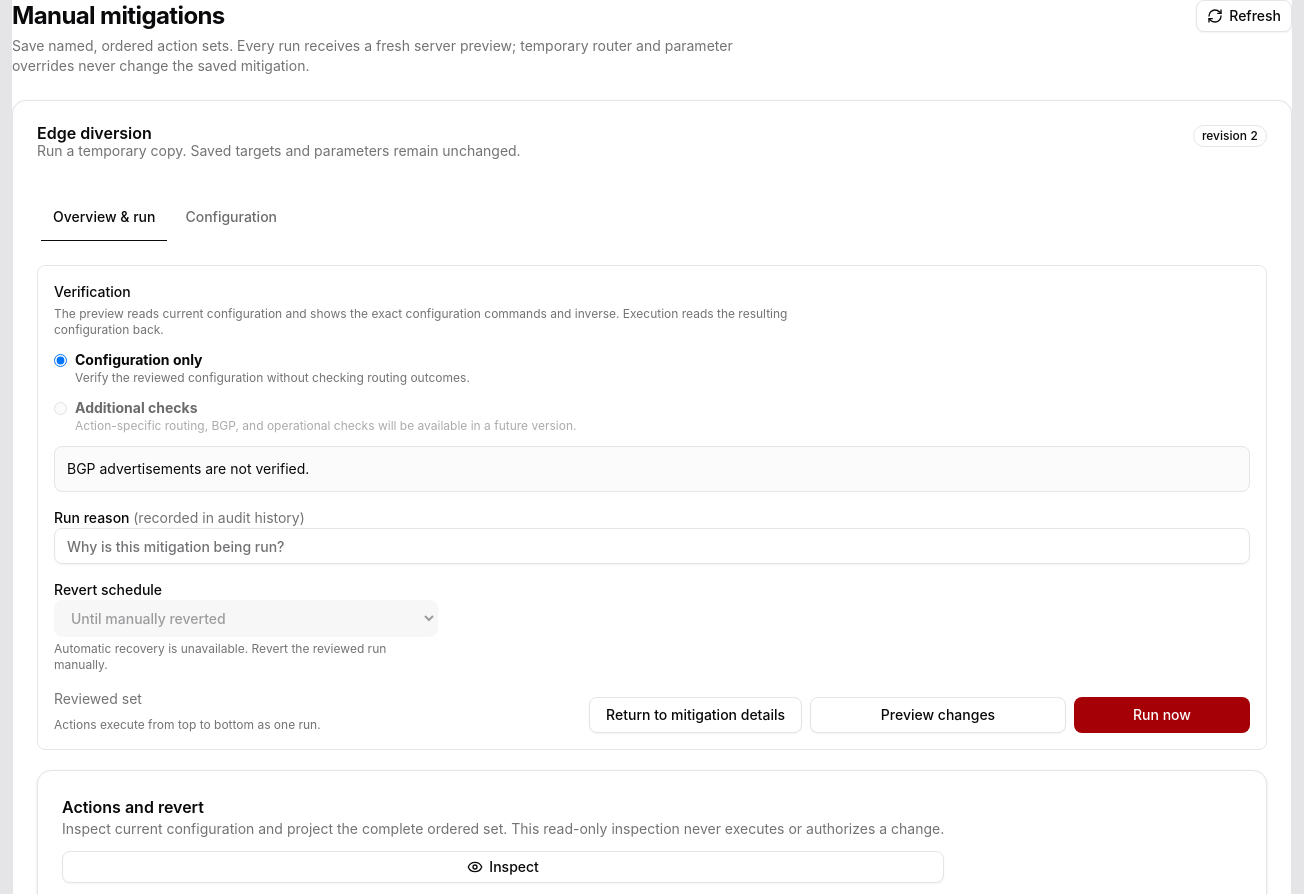
Test: locks every run control while an exact preview is pending and keeps the action in one layout slot
Expected: the radio button labelled "Configuration only" is checked, [54,354,67,367]
Click the button "Preview changes" at x=938, y=715, box [810,697,1066,733]
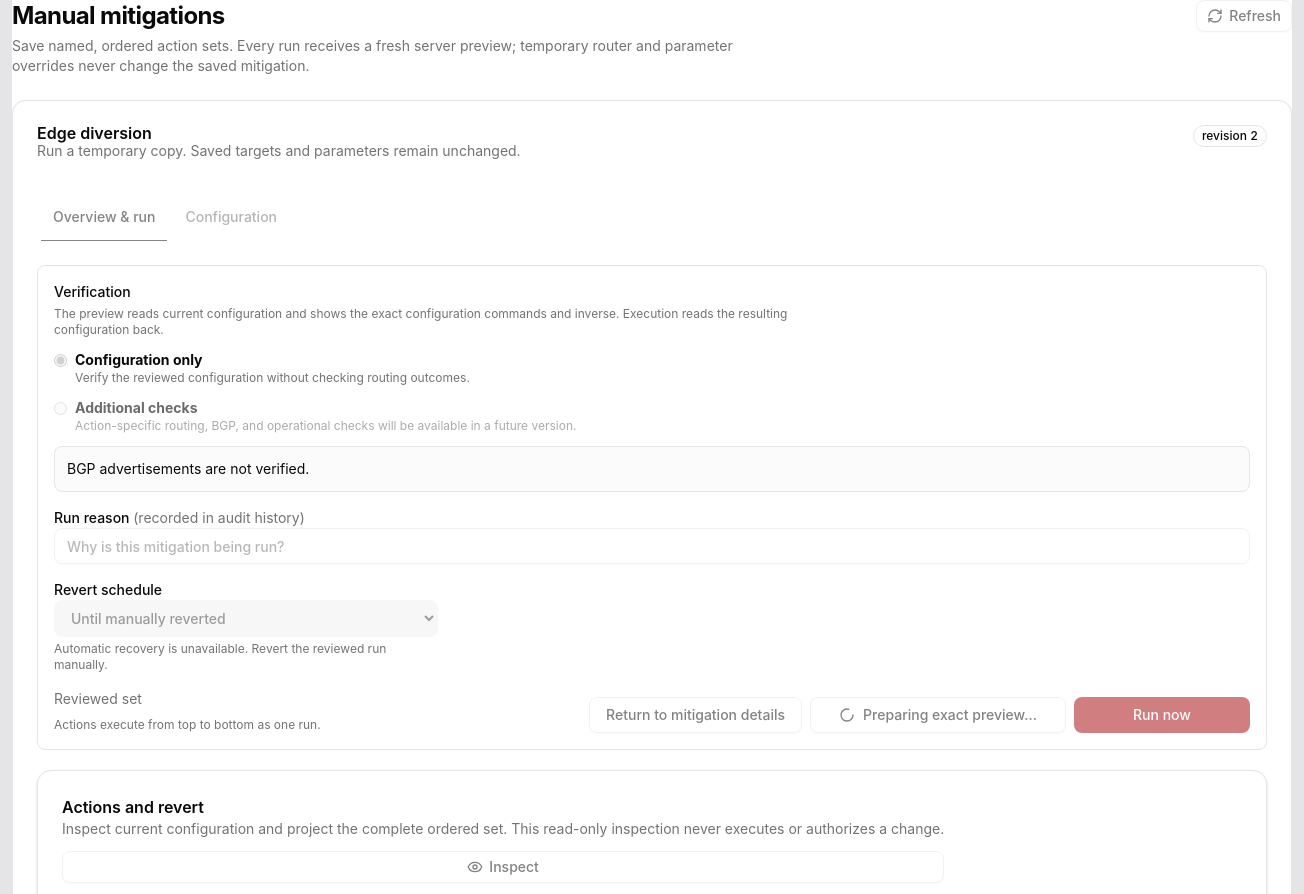
Expected: the button "Refresh" is disabled, [1196,0,1292,32]
Expected: the button "Return to mitigation details" is disabled, [589,697,802,733]
Expected: the button "Preparing exact preview…" is disabled, [810,697,1066,733]
Click the radio button labelled "Additional checks" at x=60, y=408, box [54,402,67,415]
(page scrolled)
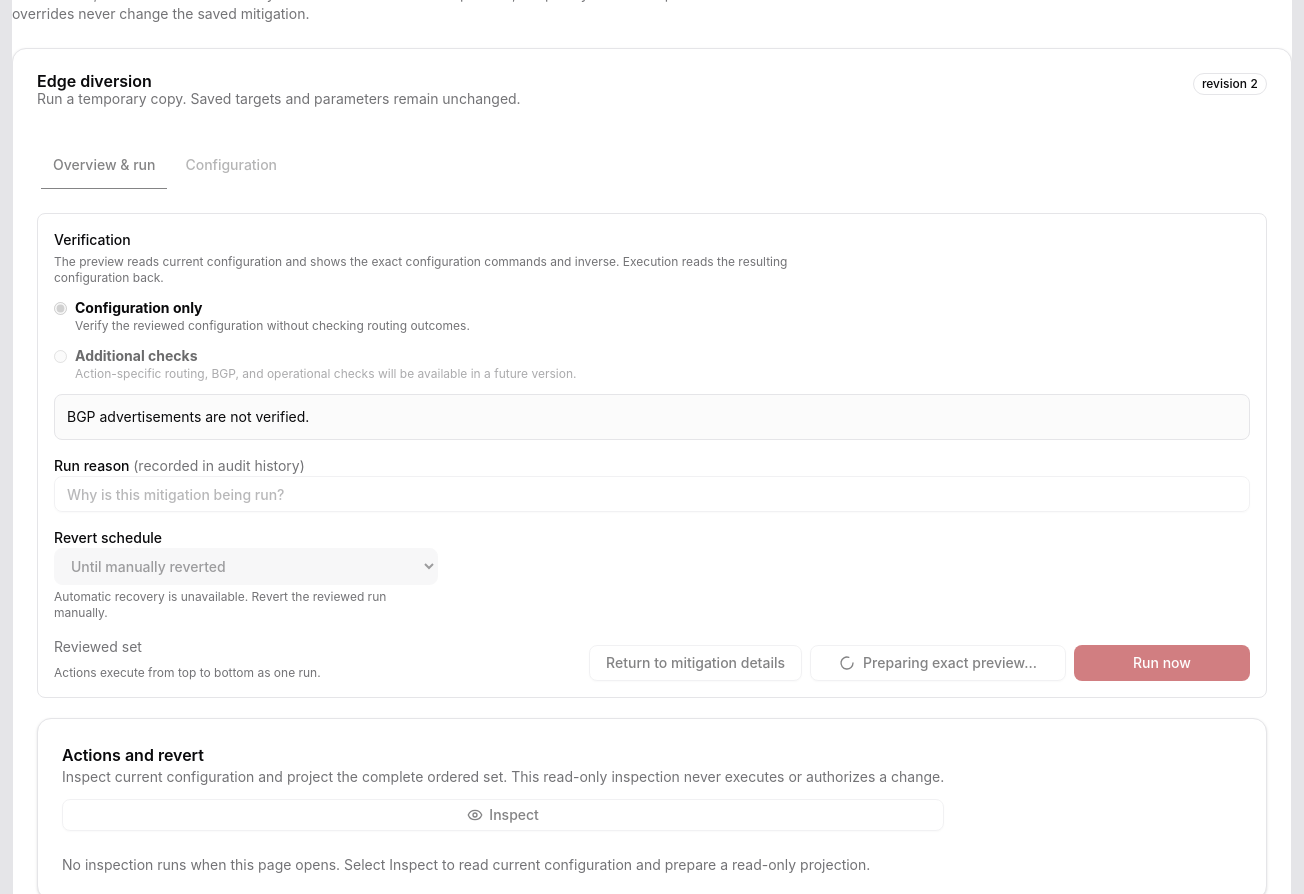
Click the button "Inspect" at x=503, y=815, box [62,799,944,831]
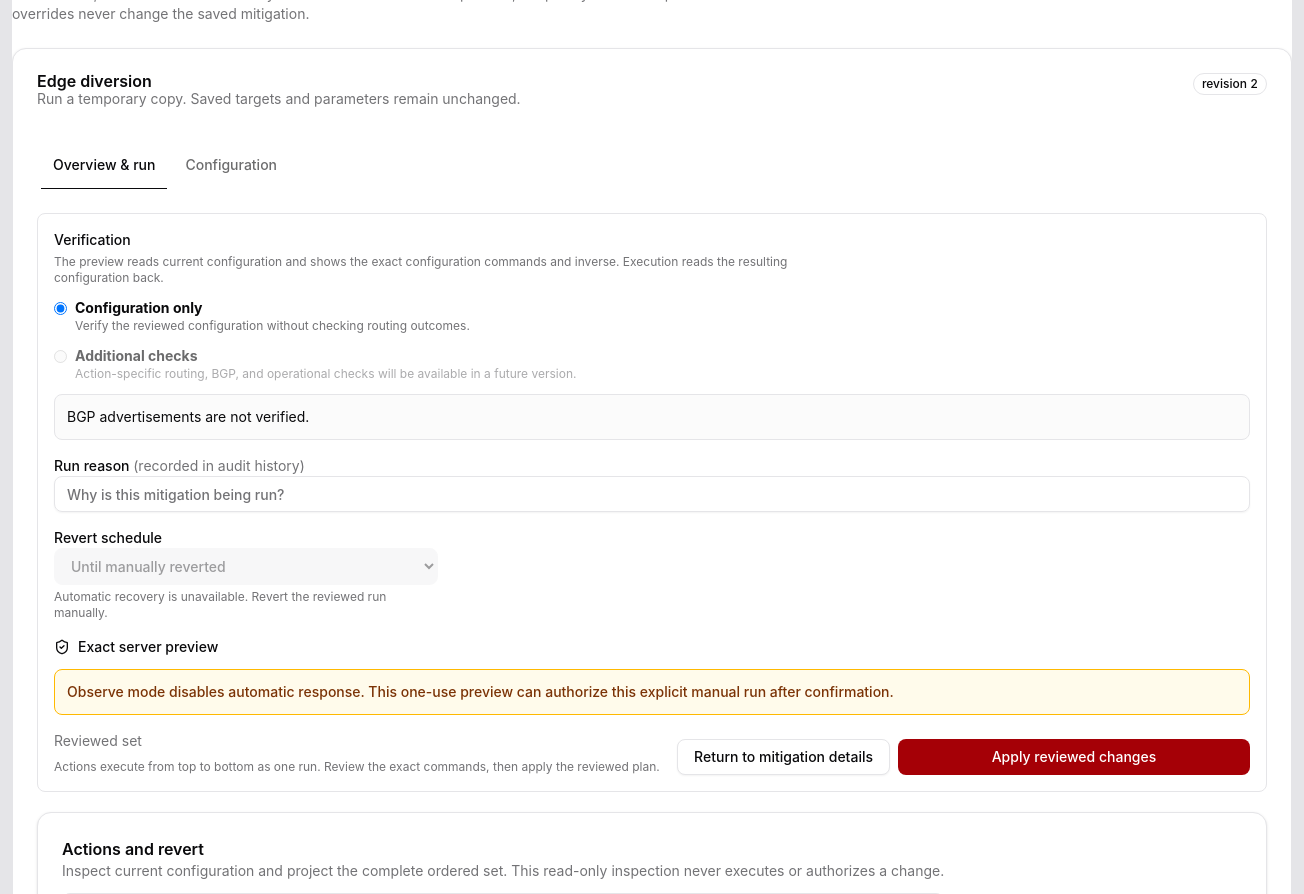
Expected: the radio button labelled "Configuration only" is checked, [54,302,67,315]
Expected: the button "Apply reviewed changes" is shown, [898,739,1250,775]
